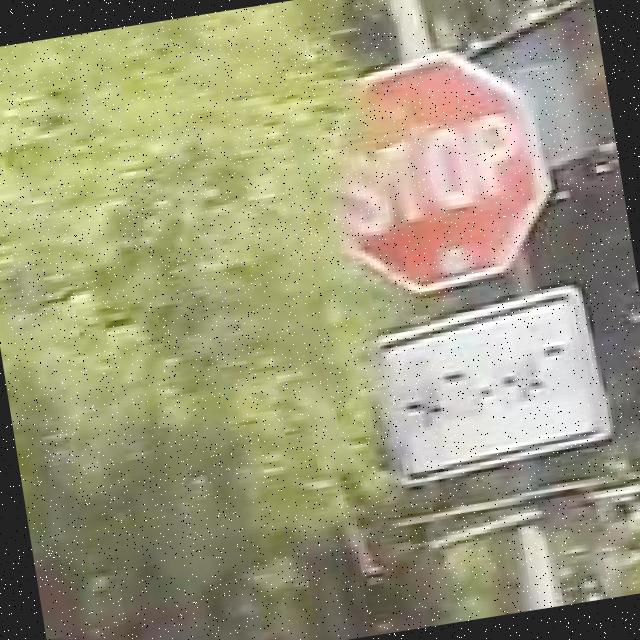Stop: (388, 48, 561, 286)
